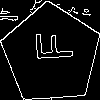F: (26, 29, 73, 63)
